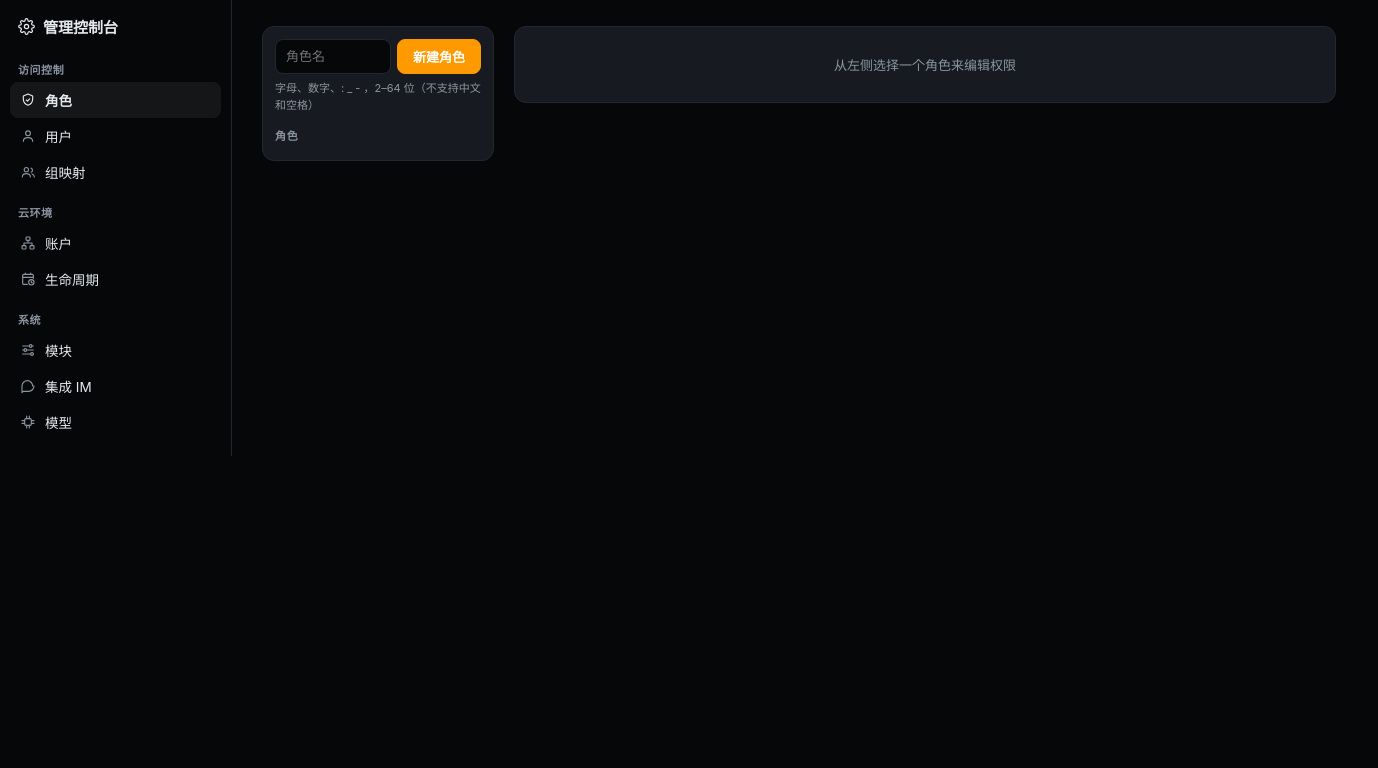
Scenario: 管理 → 模型（方案 A） › 键盘调序：⠿ 上 ↑ 两次 → 网关第一「保存后启用」，保存条出现；放弃后复原
The image size is (1378, 768).
Click the button "模型".
click(116, 422)  # box [10, 404, 221, 440]
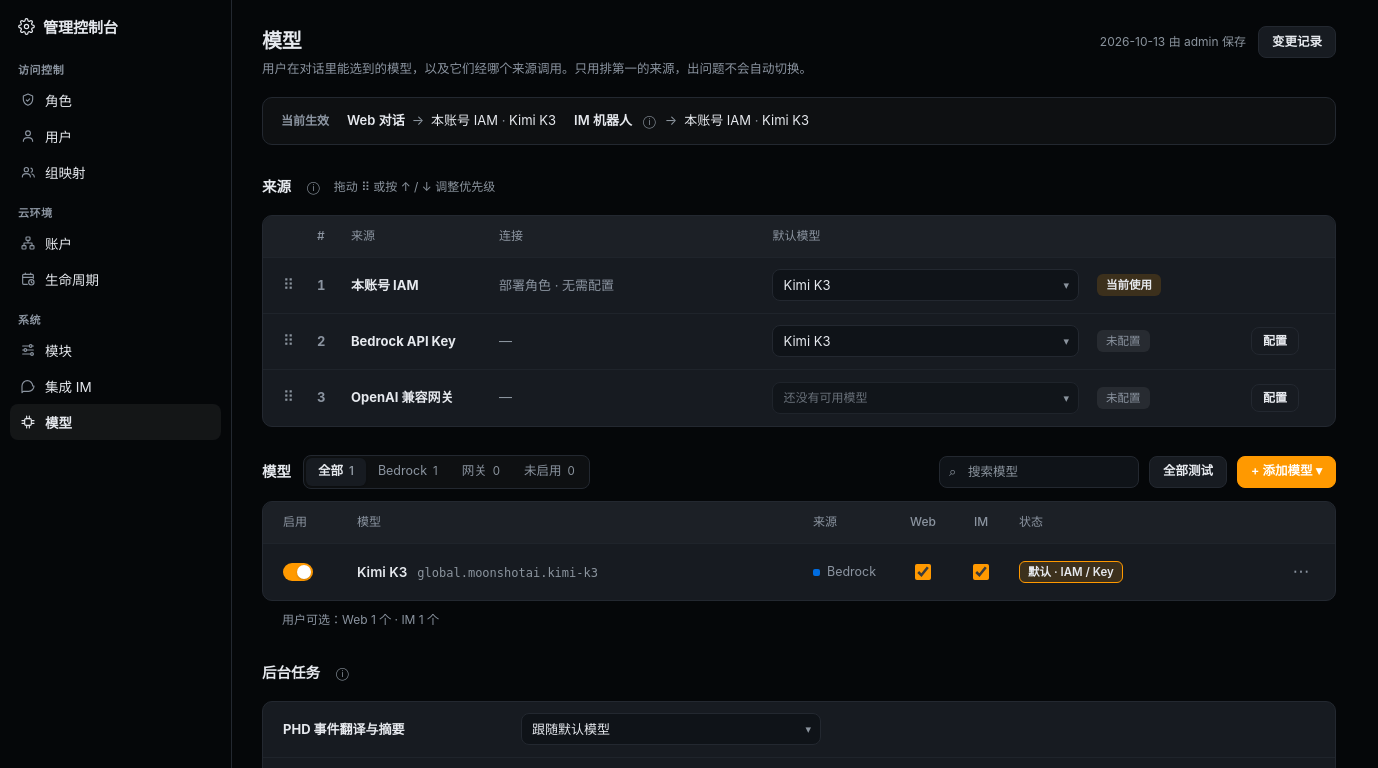
Now the list "来源" is shown, box [262, 215, 1336, 427]
Press ArrowUp in the button "⠿" in the row of "OpenAI 兼容网关", box [283, 389, 293, 404]
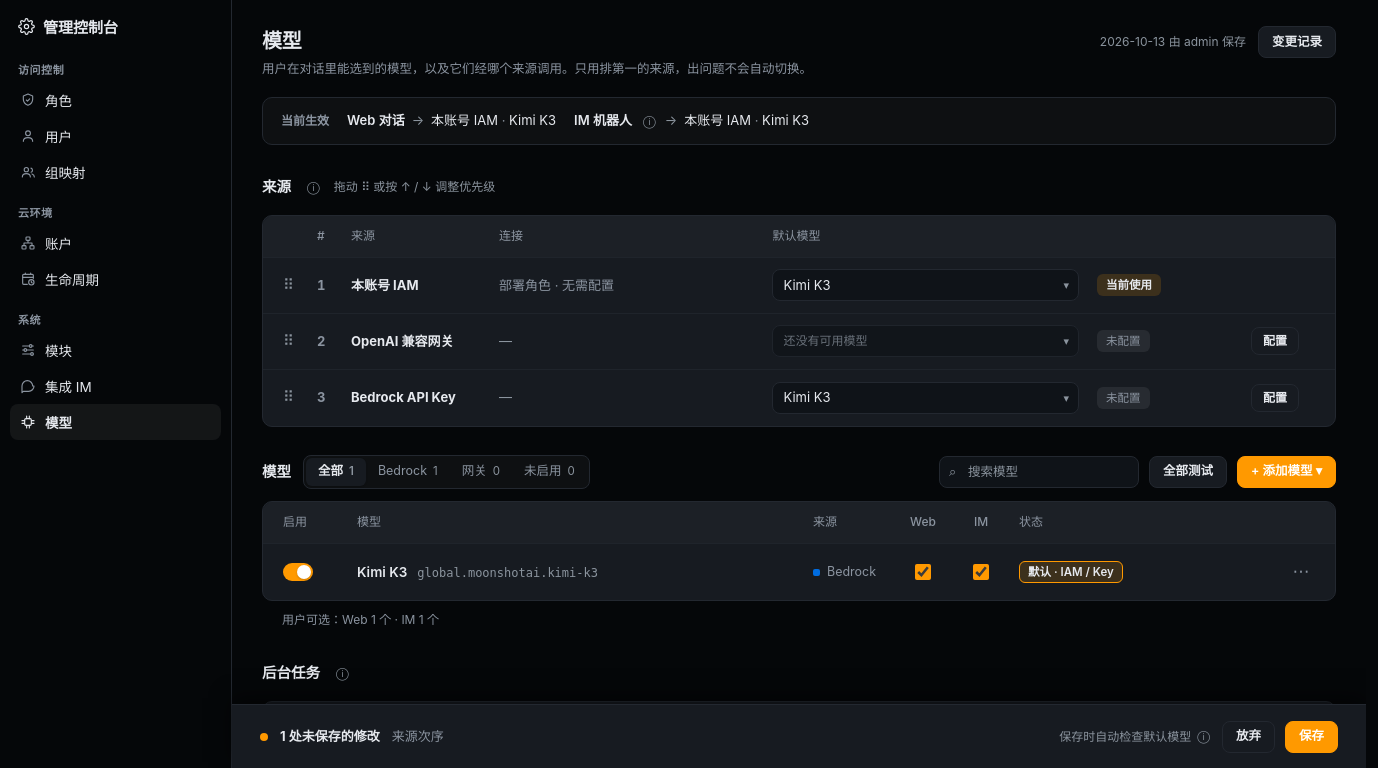
Press ArrowUp in the button "⠿" in the row of "OpenAI 兼容网关", box [283, 332, 293, 348]
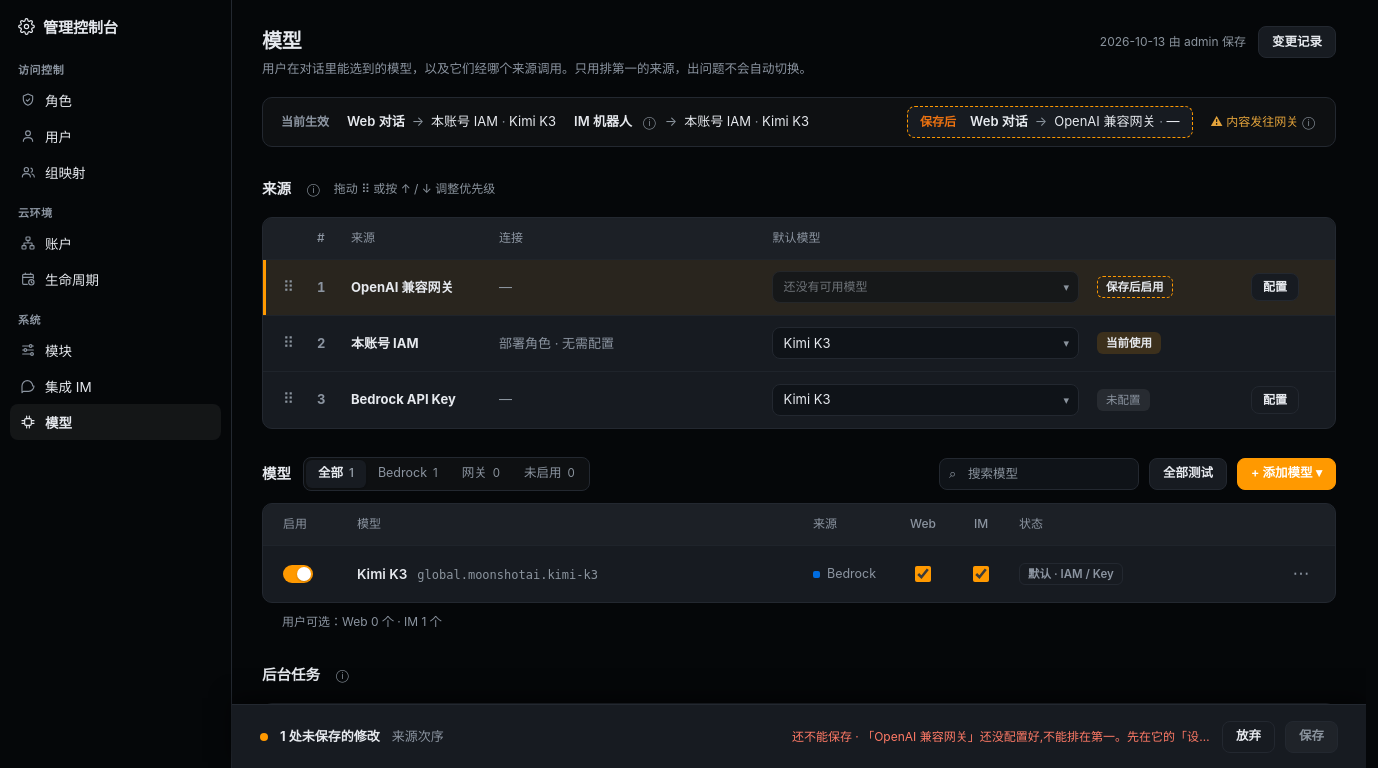
Now the list item "⠿ 1 OpenAI 兼容网关 — 保存后启用 配置" is shown, box [263, 260, 1335, 316]
Now the list item "⠿ 2 本账号 IAM 部署角色 · 无需配置 当前使用" is shown, box [263, 316, 1335, 372]
Now the element that starts with "1 处未保存的修改" shows "来源次序", box [392, 728, 444, 744]
Click the button "放弃".
click(1248, 736)  # box [1222, 720, 1275, 752]
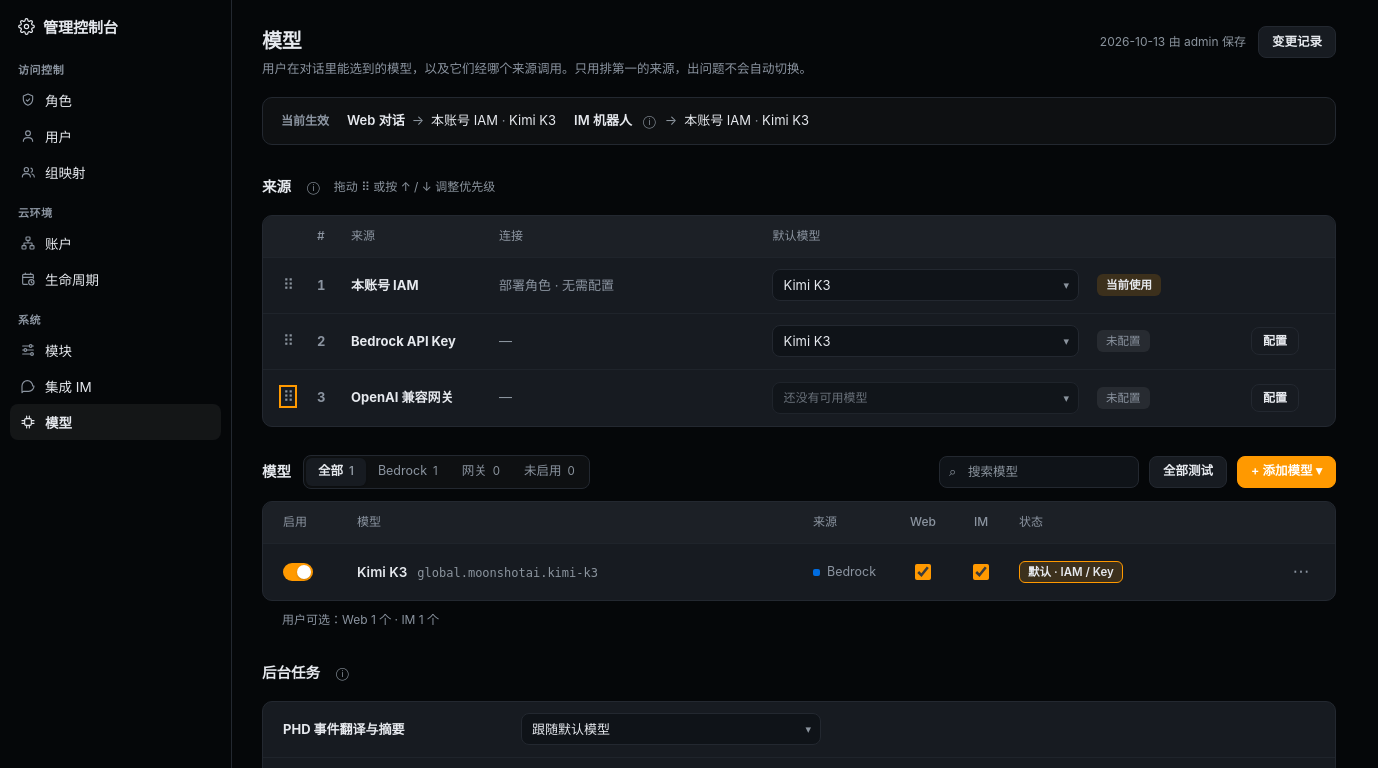
Now the list item "⠿ 1 本账号 IAM 部署角色 · 无需配置 当前使用" is shown, box [263, 258, 1335, 314]
Now the element with class "mdl-bar" is gone
